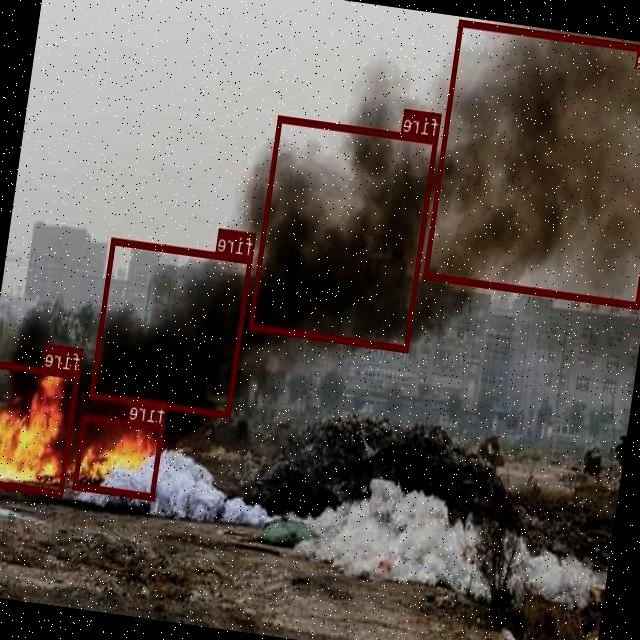fire: (423, 18, 640, 309), (250, 114, 440, 351), (90, 237, 254, 418), (0, 360, 80, 494), (74, 413, 165, 500)
